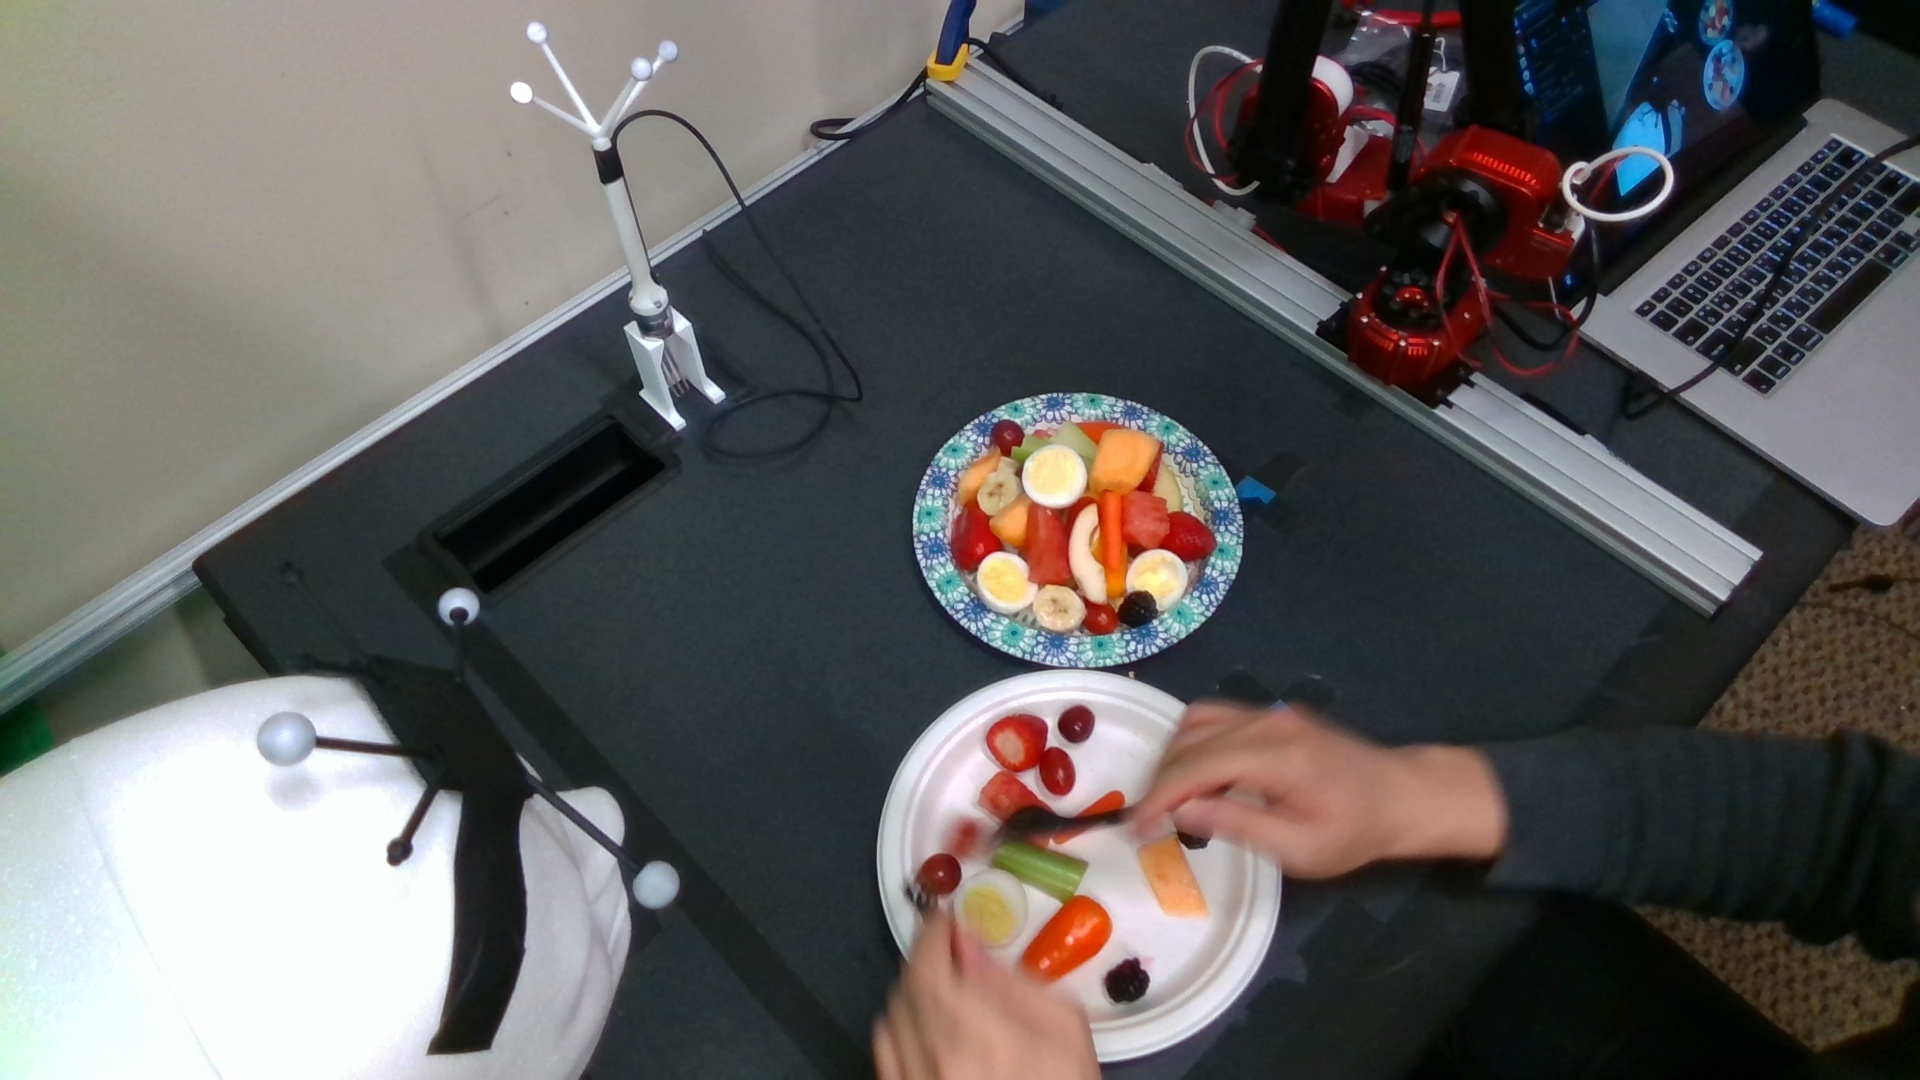apple: (1068, 501, 1109, 607)
banana: (1033, 584, 1087, 633), (975, 473, 1027, 516)
bell_pepper: (1019, 895, 1116, 988), (953, 502, 997, 572)
blackberry: (1105, 959, 1150, 1001), (1118, 592, 1159, 626)
cantalope: (1142, 836, 1207, 919), (1093, 430, 1162, 495)
celery: (992, 836, 1091, 899)
cherry_tomato: (1039, 746, 1079, 795), (1081, 601, 1117, 636)
egg: (953, 868, 1026, 945), (976, 553, 1043, 617), (1021, 443, 1087, 506), (1127, 550, 1188, 607)
grape: (918, 855, 960, 894), (1058, 704, 1096, 745), (992, 419, 1029, 462)
melon: (1022, 501, 1069, 591), (1118, 487, 1170, 551)
plate: (874, 669, 1284, 1062), (910, 389, 1247, 669)
strawberry: (986, 713, 1050, 770), (1160, 512, 1218, 560)
